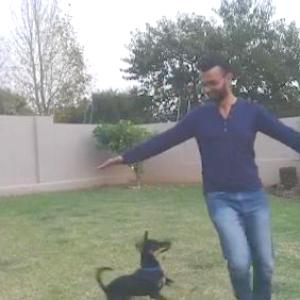land: (130, 64, 299, 290)
